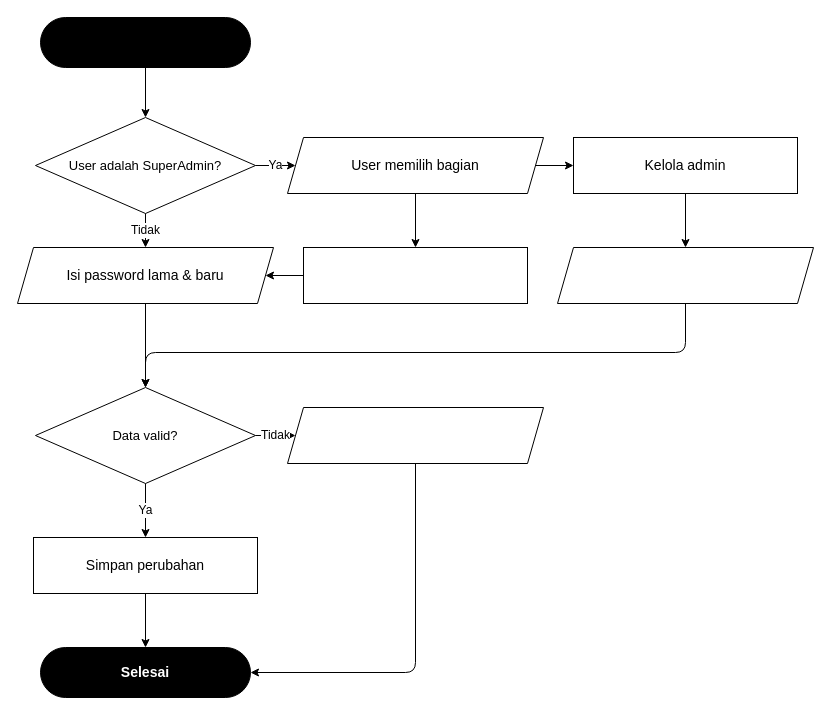
This 831x715 diagram has some shape labels left out. Each missing label, with the centre of its shape:
"Akun saya" goes at point 415,275.
"Isi data admin baru, reset password, atau nonaktifkan admin" goes at point 685,275.
"Tampil pesan error" goes at point 415,435.
"User Flow: Layar Akun" goes at point 145,42.
